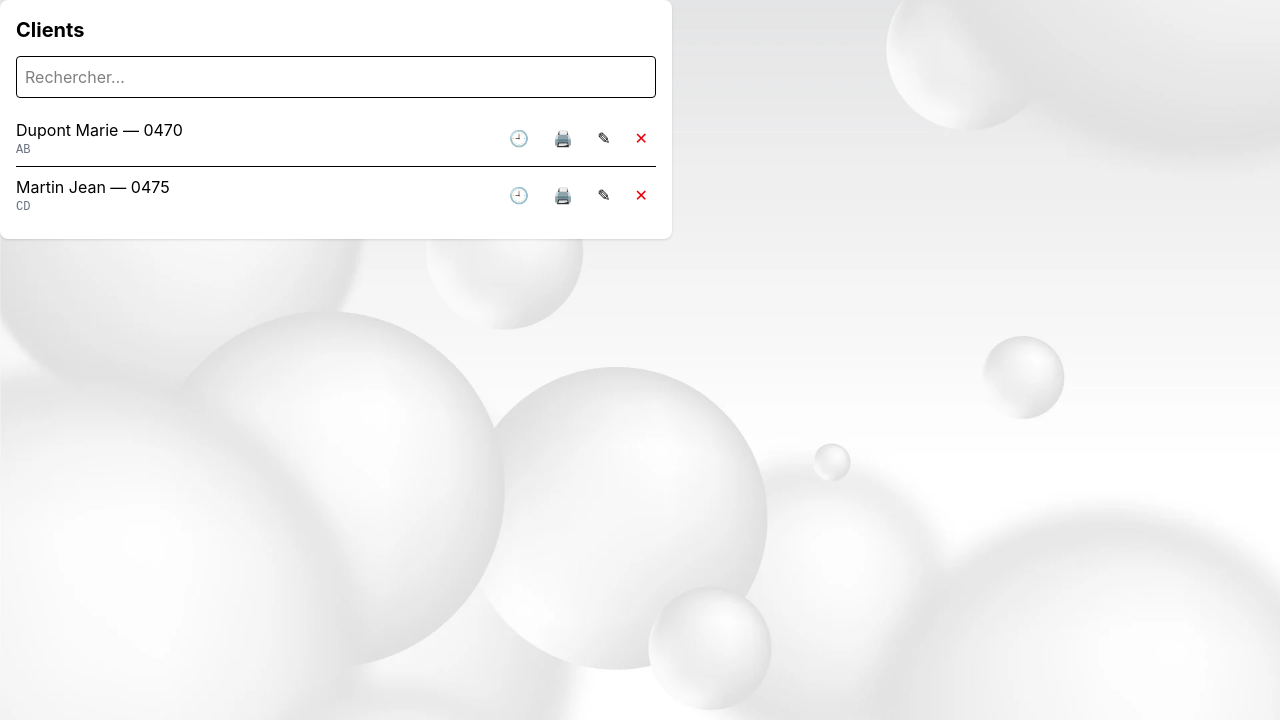
Test: Clients › refus du serveur : le message du serveur s’affiche et la liste ne bouge pas
Click the button named "Supprimer le client": (641, 138) [627,122,656,154]
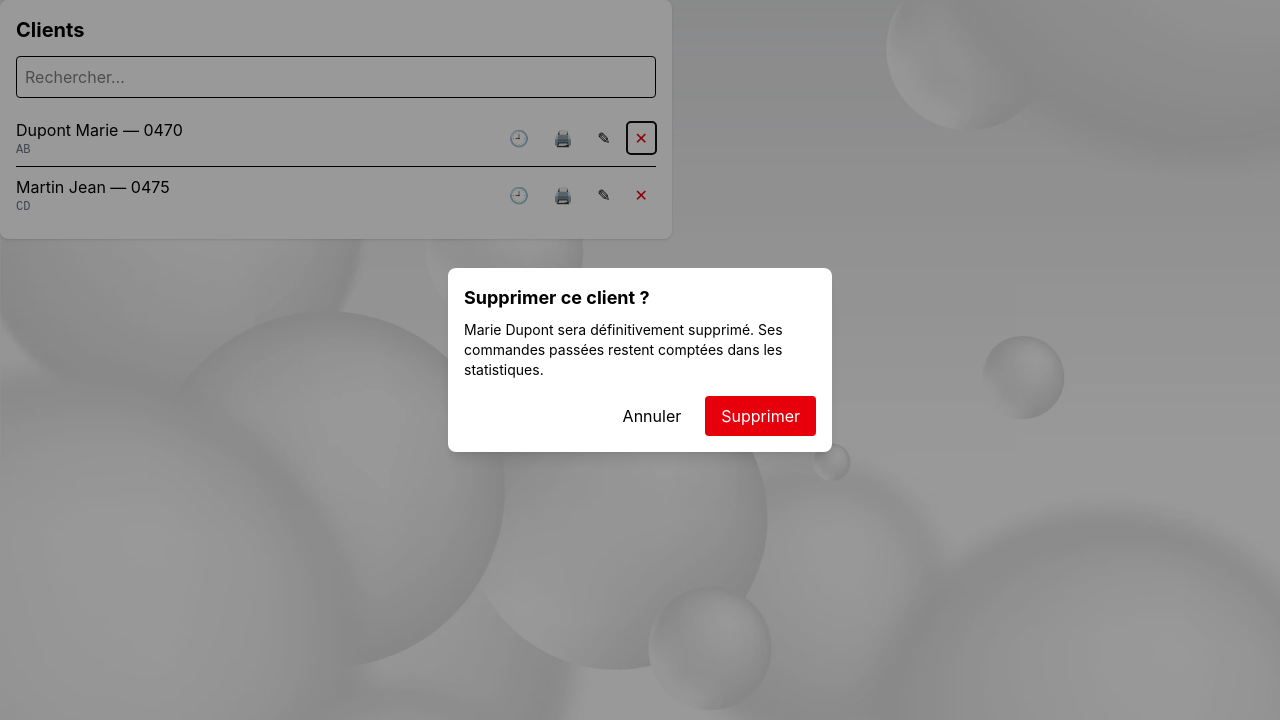
Click the button "Supprimer": (761, 416) [705,396,816,436]
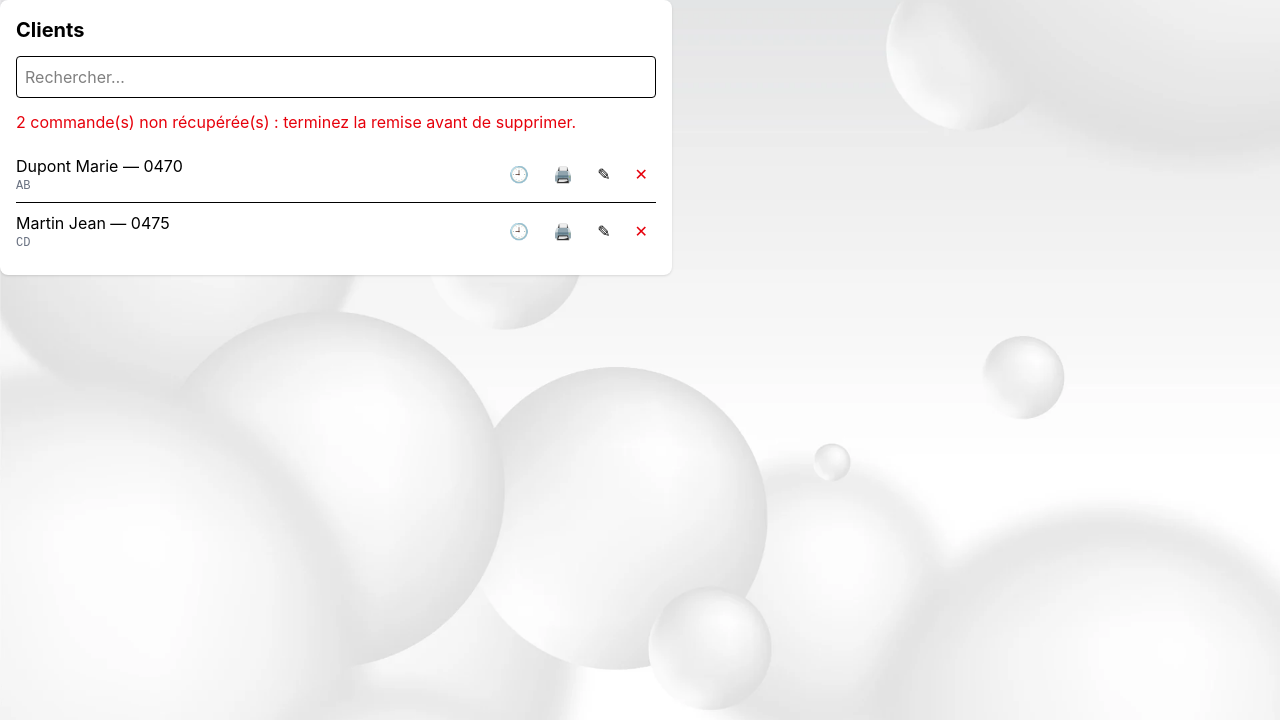
Expected: the text "Dupont Marie — 0470" is shown, [16,154,183,178]
Result: the text "2 commande(s) non récupérée(s)" is shown at [16,112,576,132]
